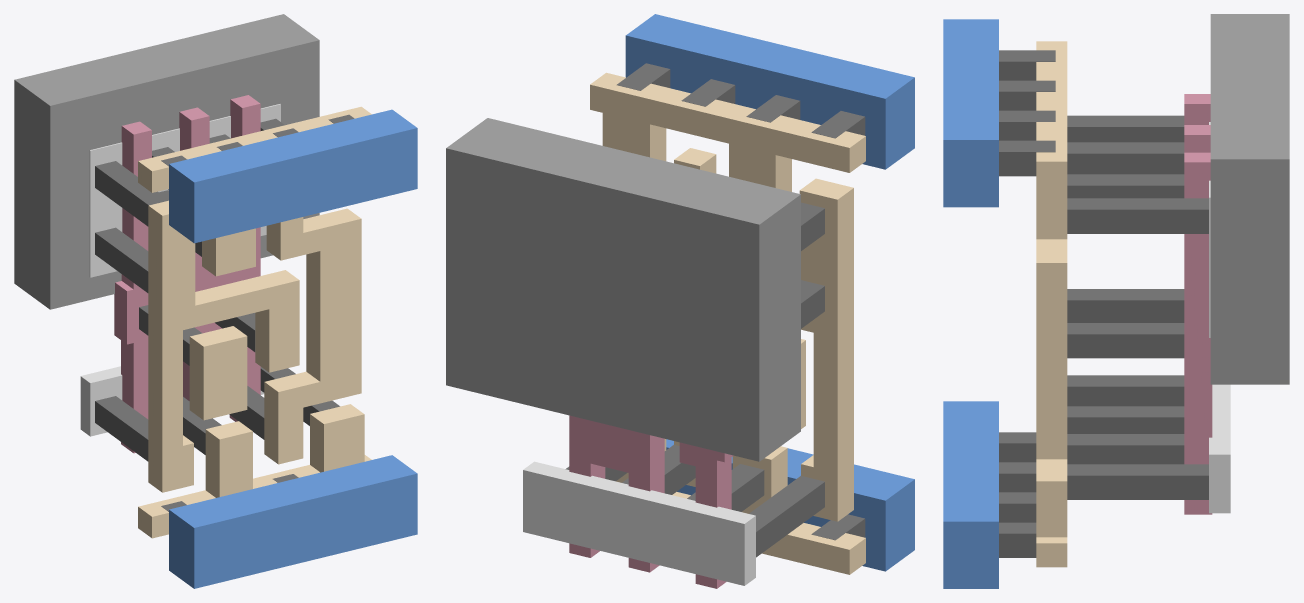
File: sky130_fd_sc_hd__clkbuf_2.gds.gltf
3 views of the same model, side by side, from view 1: azimuth 30°, elevation 25°; view 2: azimuth 150°, elevation 25°; view 3: azimuth 270°, elevation 25° (orthographic). The views are drawn at different scales.
Parts seen in each view (by area): view 1: sky130_fd_sc_hd__clkbuf_2_li1, sky130_fd_sc_hd__clkbuf_2_met1, sky130_fd_sc_hd__clkbuf_2_nwell, sky130_fd_sc_hd__clkbuf_2_licon, sky130_fd_sc_hd__clkbuf_2_poly, sky130_fd_sc_hd__clkbuf_2_diff, sky130_fd_sc_hd__clkbuf_2_mcon; view 2: sky130_fd_sc_hd__clkbuf_2_nwell, sky130_fd_sc_hd__clkbuf_2_li1, sky130_fd_sc_hd__clkbuf_2_met1, sky130_fd_sc_hd__clkbuf_2_diff, sky130_fd_sc_hd__clkbuf_2_poly, sky130_fd_sc_hd__clkbuf_2_licon, sky130_fd_sc_hd__clkbuf_2_mcon; view 3: sky130_fd_sc_hd__clkbuf_2_licon, sky130_fd_sc_hd__clkbuf_2_nwell, sky130_fd_sc_hd__clkbuf_2_met1, sky130_fd_sc_hd__clkbuf_2_li1, sky130_fd_sc_hd__clkbuf_2_mcon, sky130_fd_sc_hd__clkbuf_2_poly, sky130_fd_sc_hd__clkbuf_2_diff.
Part boxes in pixels (left/top/right/bottom): sky130_fd_sc_hd__clkbuf_2_li1: left=138, top=106, right=371, bottom=538; sky130_fd_sc_hd__clkbuf_2_met1: left=169, top=109, right=417, bottom=588; sky130_fd_sc_hd__clkbuf_2_nwell: left=14, top=14, right=319, bottom=309; sky130_fd_sc_hd__clkbuf_2_licon: left=95, top=118, right=339, bottom=461; sky130_fd_sc_hd__clkbuf_2_poly: left=114, top=95, right=260, bottom=453; sky130_fd_sc_hd__clkbuf_2_diff: left=80, top=104, right=280, bottom=436; sky130_fd_sc_hd__clkbuf_2_mcon: left=161, top=114, right=354, bottom=511; sky130_fd_sc_hd__clkbuf_2_nwell: left=446, top=118, right=800, bottom=461; sky130_fd_sc_hd__clkbuf_2_li1: left=590, top=72, right=865, bottom=574; sky130_fd_sc_hd__clkbuf_2_met1: left=625, top=14, right=914, bottom=571; sky130_fd_sc_hd__clkbuf_2_diff: left=523, top=461, right=755, bottom=585; sky130_fd_sc_hd__clkbuf_2_poly: left=569, top=415, right=733, bottom=588; sky130_fd_sc_hd__clkbuf_2_licon: left=565, top=202, right=824, bottom=557; sky130_fd_sc_hd__clkbuf_2_mcon: left=617, top=63, right=865, bottom=540; sky130_fd_sc_hd__clkbuf_2_licon: left=1067, top=115, right=1208, bottom=499; sky130_fd_sc_hd__clkbuf_2_nwell: left=1210, top=14, right=1289, bottom=384; sky130_fd_sc_hd__clkbuf_2_met1: left=943, top=19, right=998, bottom=588; sky130_fd_sc_hd__clkbuf_2_li1: left=1036, top=41, right=1067, bottom=567; sky130_fd_sc_hd__clkbuf_2_mcon: left=999, top=50, right=1055, bottom=557; sky130_fd_sc_hd__clkbuf_2_poly: left=1184, top=94, right=1212, bottom=514; sky130_fd_sc_hd__clkbuf_2_diff: left=1209, top=122, right=1230, bottom=513.
Bounding box in the file's own units: 2.22 × 3.2 × 2.24.
